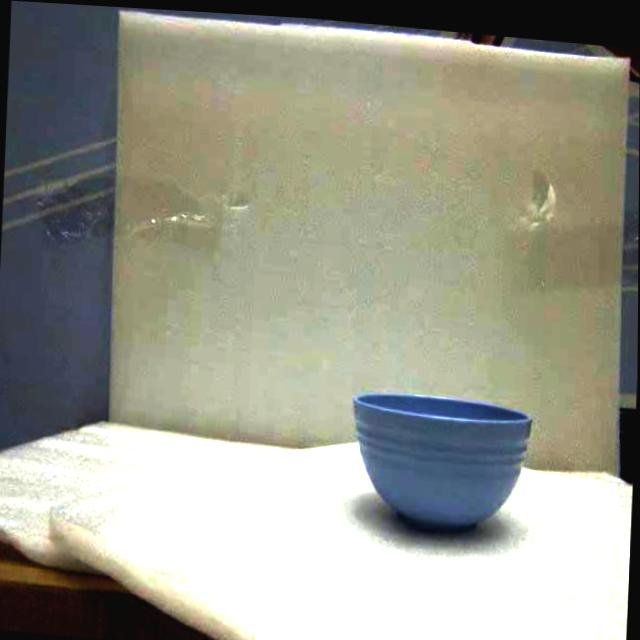Bowl: (353, 394, 529, 531)
